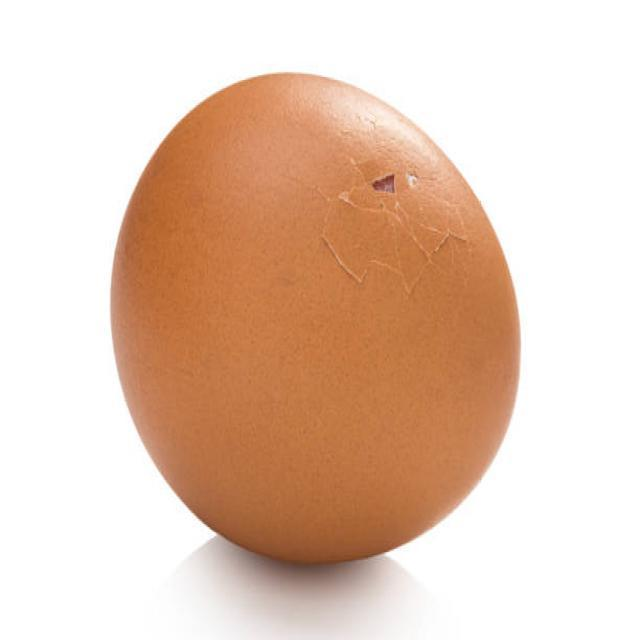biodegradable: (102, 64, 536, 573)
